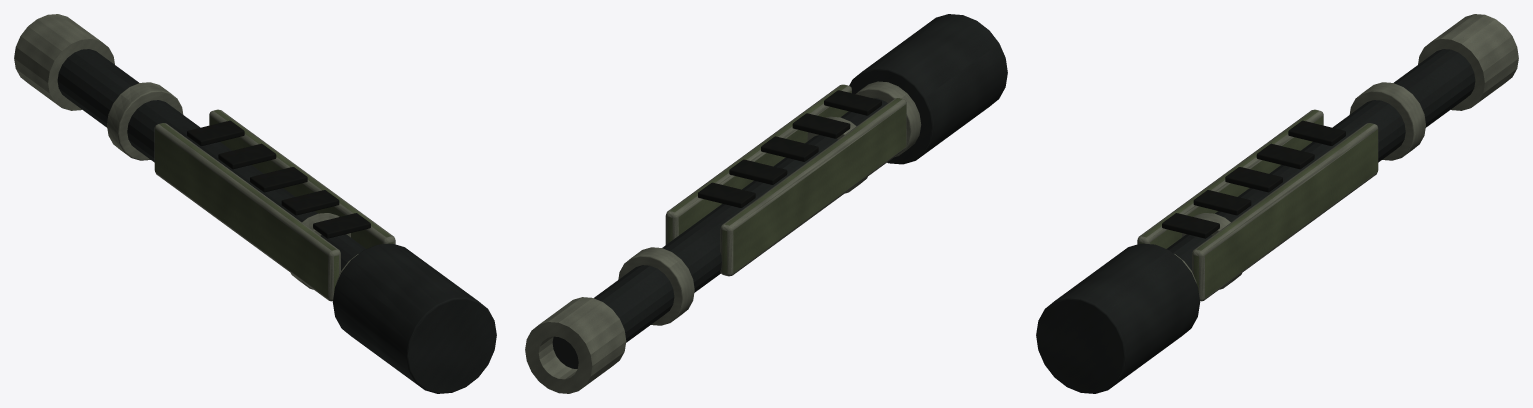
File: ranger-barrel.fbx
3 renders of one model, left to right at view 1: azimuth 30°, elevation 25°; view 2: azimuth 150°, elevation 25°; view 3: azimuth 330°, elevation 25°, orthographic.
Visible parts, largest first — view 1: ranger-barrel_Steel, ranger-barrel_Armor, ranger-barrel_Edge, ranger-barrel_Rubber; view 2: ranger-barrel_Steel, ranger-barrel_Armor, ranger-barrel_Edge, ranger-barrel_Rubber; view 3: ranger-barrel_Steel, ranger-barrel_Armor, ranger-barrel_Edge, ranger-barrel_Rubber.
Boxes of the visible parts, x1=… form: ranger-barrel_Steel: x1=57, y1=49, x2=496, y2=393; ranger-barrel_Armor: x1=154, y1=109, x2=395, y2=301; ranger-barrel_Edge: x1=14, y1=14, x2=358, y2=289; ranger-barrel_Rubber: x1=187, y1=120, x2=370, y2=238; ranger-barrel_Steel: x1=552, y1=14, x2=1007, y2=368; ranger-barrel_Armor: x1=665, y1=84, x2=906, y2=276; ranger-barrel_Edge: x1=525, y1=81, x2=921, y2=393; ranger-barrel_Rubber: x1=698, y1=90, x2=881, y2=207; ranger-barrel_Steel: x1=1036, y1=49, x2=1475, y2=393; ranger-barrel_Armor: x1=1137, y1=109, x2=1378, y2=301; ranger-barrel_Edge: x1=1174, y1=14, x2=1518, y2=289; ranger-barrel_Rubber: x1=1162, y1=120, x2=1345, y2=238.
Size of the model in its own units: 43 by 43 by 333.
4 materials, 4 textured.
